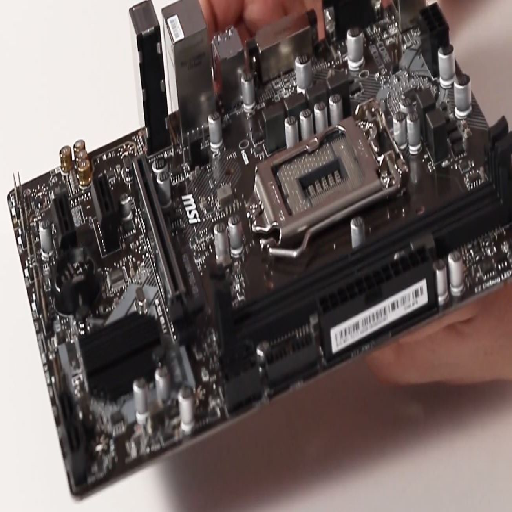CPU: (239, 101, 408, 264)
GPU: (129, 157, 188, 308)
MOTHERBOARD: (3, 7, 512, 494)
RAM: (224, 169, 512, 346)
